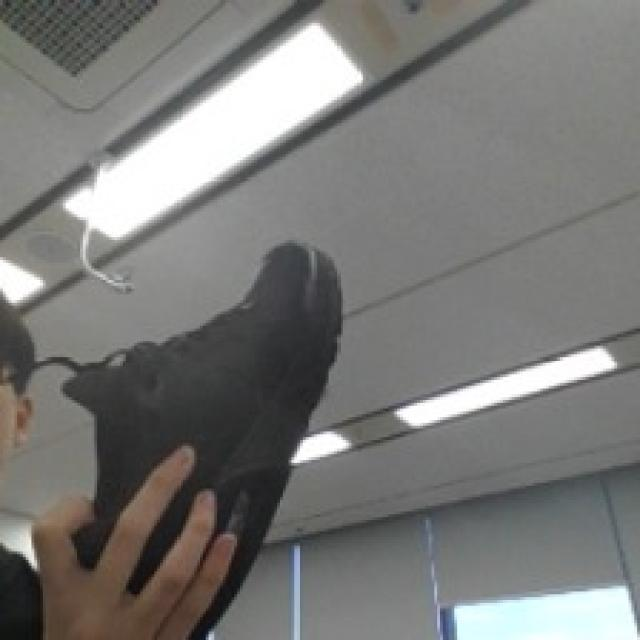shoe: (46, 258, 344, 570)
